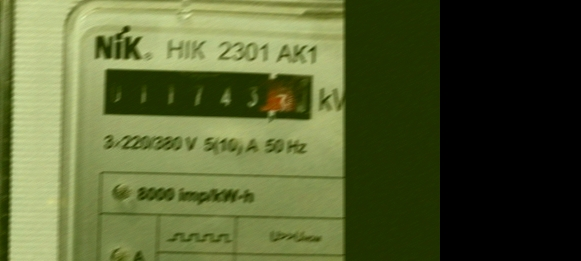0: (108, 78, 122, 105)
1: (135, 78, 149, 106), (163, 79, 176, 107)
3: (244, 83, 258, 110), (273, 93, 288, 114)
4: (218, 84, 232, 109)
7: (190, 82, 204, 107)
screen: (95, 64, 321, 128)
